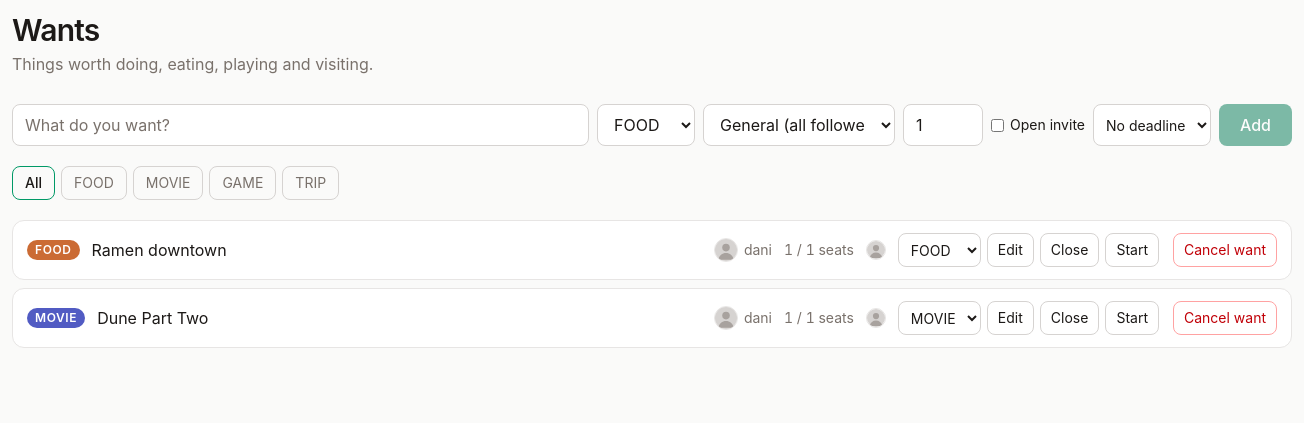
Test case: Wants › keeps the typed text when creating fails
Expected: the text "Ramen downtown" is shown, [92, 240, 227, 260]
Type "Tacos" into the field named "Want description" at (300, 125), box [12, 104, 589, 146]
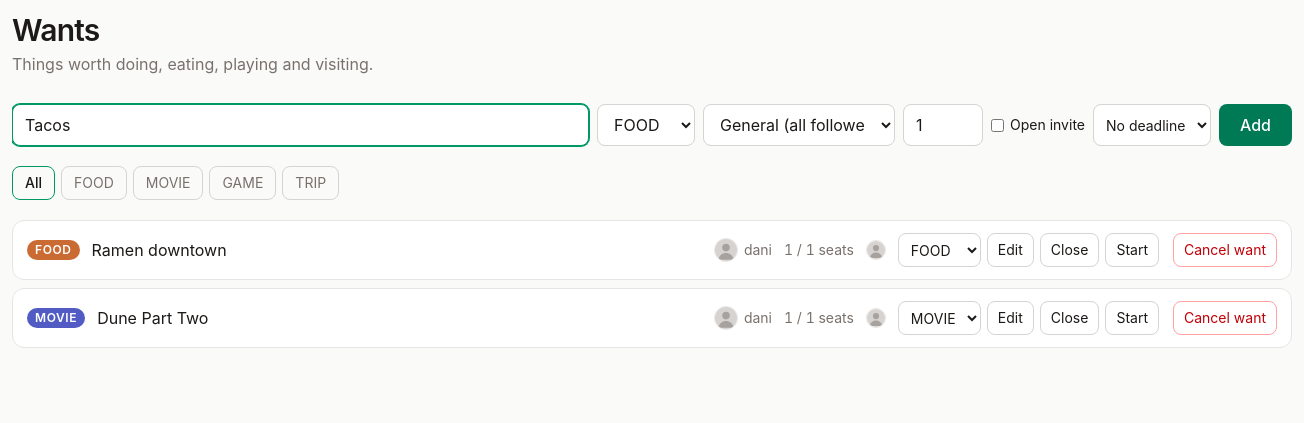
Click the button "Add" at (1256, 125), box [1219, 104, 1292, 146]
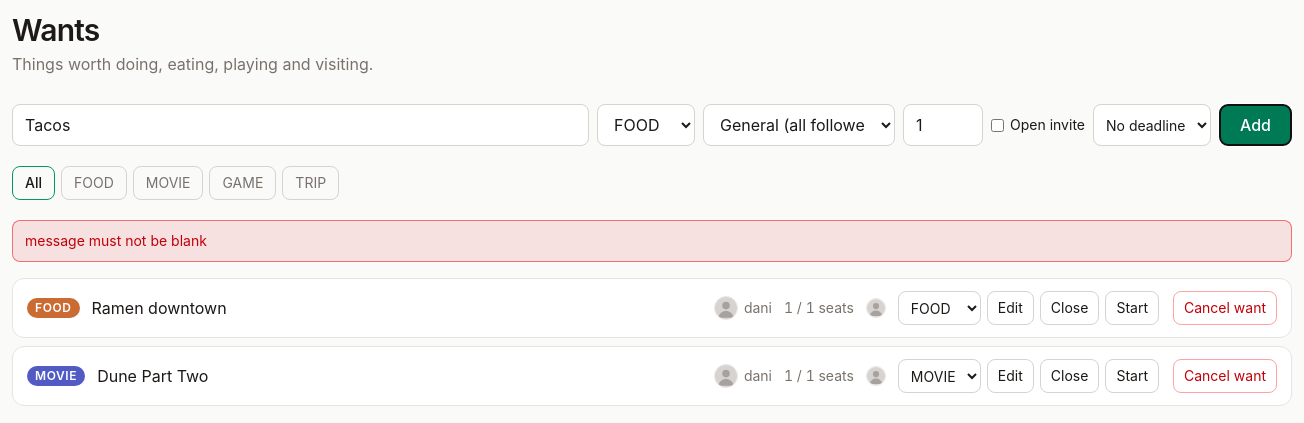
Result: the message reads "message must not be blank" at [25, 232, 207, 249]
